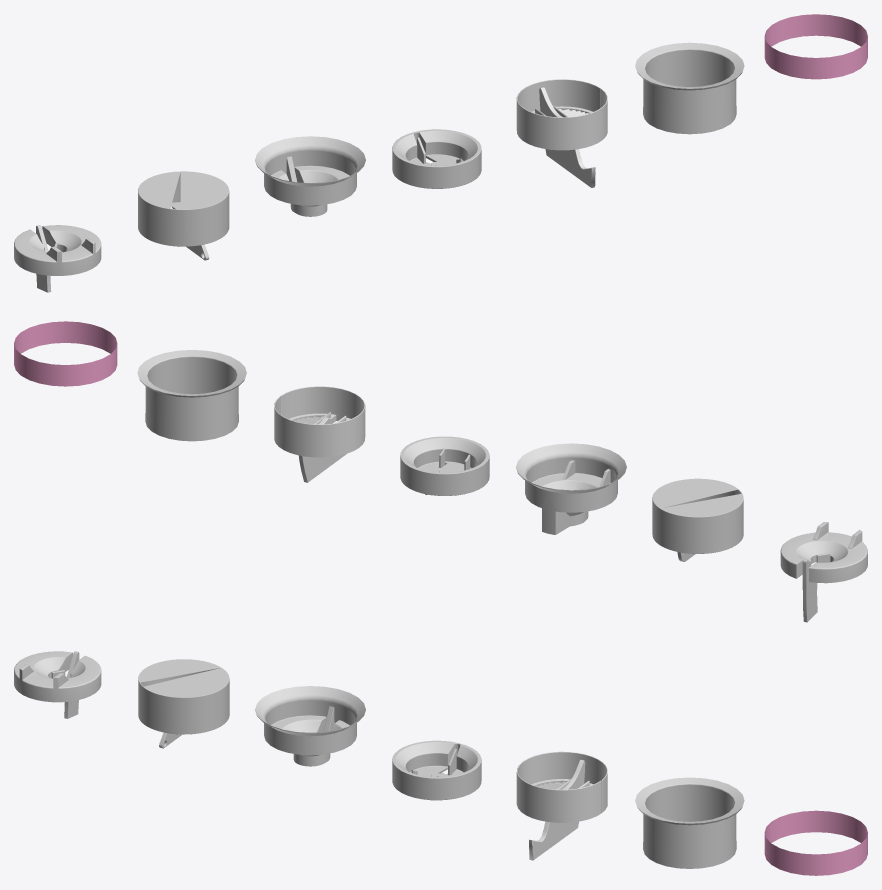
Rendered from Kickers (hipoly).fbx.
The picture shows the model from 3 angles, top to bottom: view 1: azimuth 30°, elevation 25°; view 2: azimuth 150°, elevation 25°; view 3: azimuth 330°, elevation 25°; orthographic projection.
Visible parts, largest first — view 1: Kicker, Hole (hipoly), Kicker, Gottlieb (hipoly), Kicker, Cup 1 (hipoly), Kicker, Williams (hipoly), Kicker, Hole, Simple (hipoly), Cup 2, Cup, System7, Kickout Hole (hipoly); view 2: Kicker, Hole (hipoly), Kicker, Cup 1 (hipoly), Kicker, Gottlieb (hipoly), Kicker, Williams (hipoly), Cup 2, Cup, Kicker, Hole, Simple (hipoly), System7, Kickout Hole (hipoly), System7, Ball Thrower (hipoly); view 3: Kicker, Hole (hipoly), Kicker, Gottlieb (hipoly), Kicker, Cup 1 (hipoly), Kicker, Williams (hipoly), Kicker, Hole, Simple (hipoly), Cup 2, Cup, System7, Kickout Hole (hipoly).
Boxes of the visible parts, left/top/right/bottom form: Kicker, Hole (hipoly): left=635, top=42, right=744, bottom=134; Kicker, Gottlieb (hipoly): left=516, top=79, right=607, bottom=187; Kicker, Cup 1 (hipoly): left=255, top=136, right=365, bottom=216; Kicker, Williams (hipoly): left=138, top=171, right=229, bottom=260; Kicker, Hole, Simple (hipoly): left=764, top=14, right=867, bottom=79; Cup 2, Cup: left=392, top=129, right=481, bottom=188; System7, Kickout Hole (hipoly): left=14, top=225, right=101, bottom=275; Kicker, Hole (hipoly): left=137, top=350, right=246, bottom=441; Kicker, Cup 1 (hipoly): left=516, top=443, right=626, bottom=534; Kicker, Gottlieb (hipoly): left=274, top=386, right=365, bottom=482; Kicker, Williams (hipoly): left=652, top=478, right=743, bottom=561; Cup 2, Cup: left=400, top=436, right=489, bottom=495; Kicker, Hole, Simple (hipoly): left=14, top=321, right=117, bottom=386; System7, Kickout Hole (hipoly): left=780, top=522, right=867, bottom=583; System7, Ball Thrower (hipoly): left=802, top=559, right=817, bottom=622; Kicker, Hole (hipoly): left=635, top=777, right=744, bottom=868; Kicker, Gottlieb (hipoly): left=516, top=751, right=607, bottom=860; Kicker, Cup 1 (hipoly): left=255, top=686, right=365, bottom=766; Kicker, Williams (hipoly): left=138, top=659, right=229, bottom=748; Kicker, Hole, Simple (hipoly): left=764, top=810, right=867, bottom=875; Cup 2, Cup: left=392, top=740, right=481, bottom=800; System7, Kickout Hole (hipoly): left=14, top=651, right=101, bottom=702.
Bounding box in the file's own units: 33.8 × 3.12 × 4.13.
